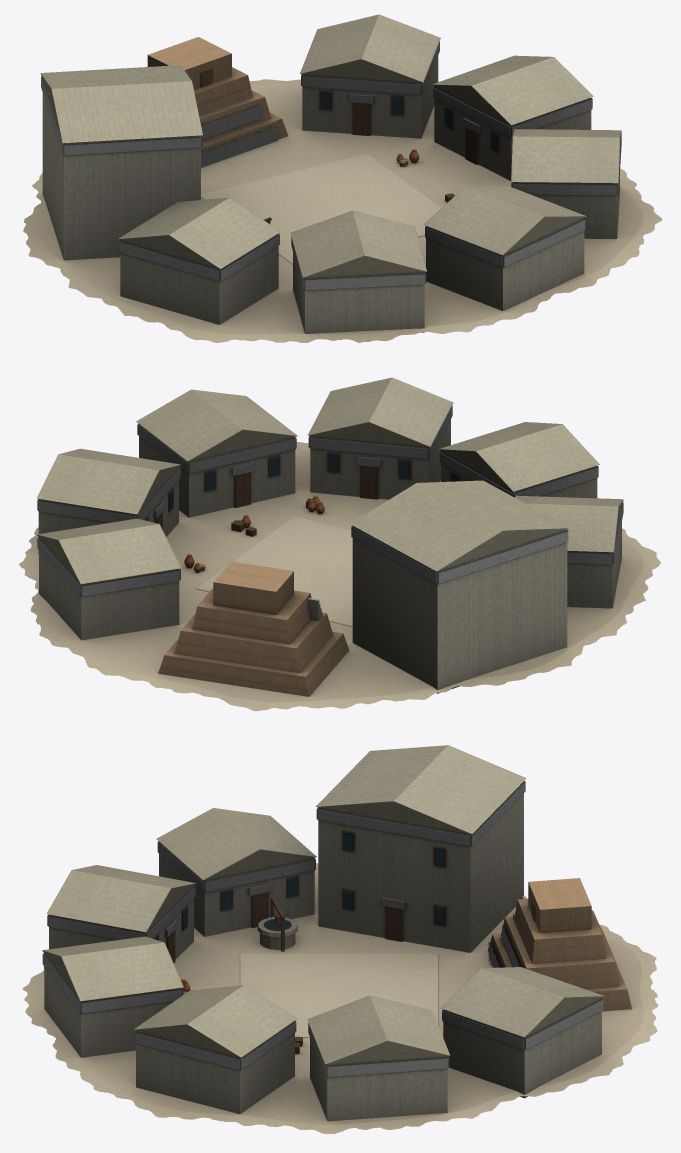
Rendered from classical-town-small-b-americas.glb.
3 views of the same model, one above another, from view 1: azimuth 30°, elevation 25°; view 2: azimuth 150°, elevation 25°; view 3: azimuth 270°, elevation 25° (orthographic).
Parts seen in each view (by area): view 1: LOD0; view 2: LOD0; view 3: LOD0.
Boxes of the visible parts, x1=… form: LOD0: x1=23, y1=14, x2=662, y2=342; LOD0: x1=19, y1=377, x2=660, y2=711; LOD0: x1=22, y1=745, x2=658, y2=1133.
Size of what is drawn, in the model's own units: 3.95 by 0.962 by 3.96.
3 materials, 3 textured.
